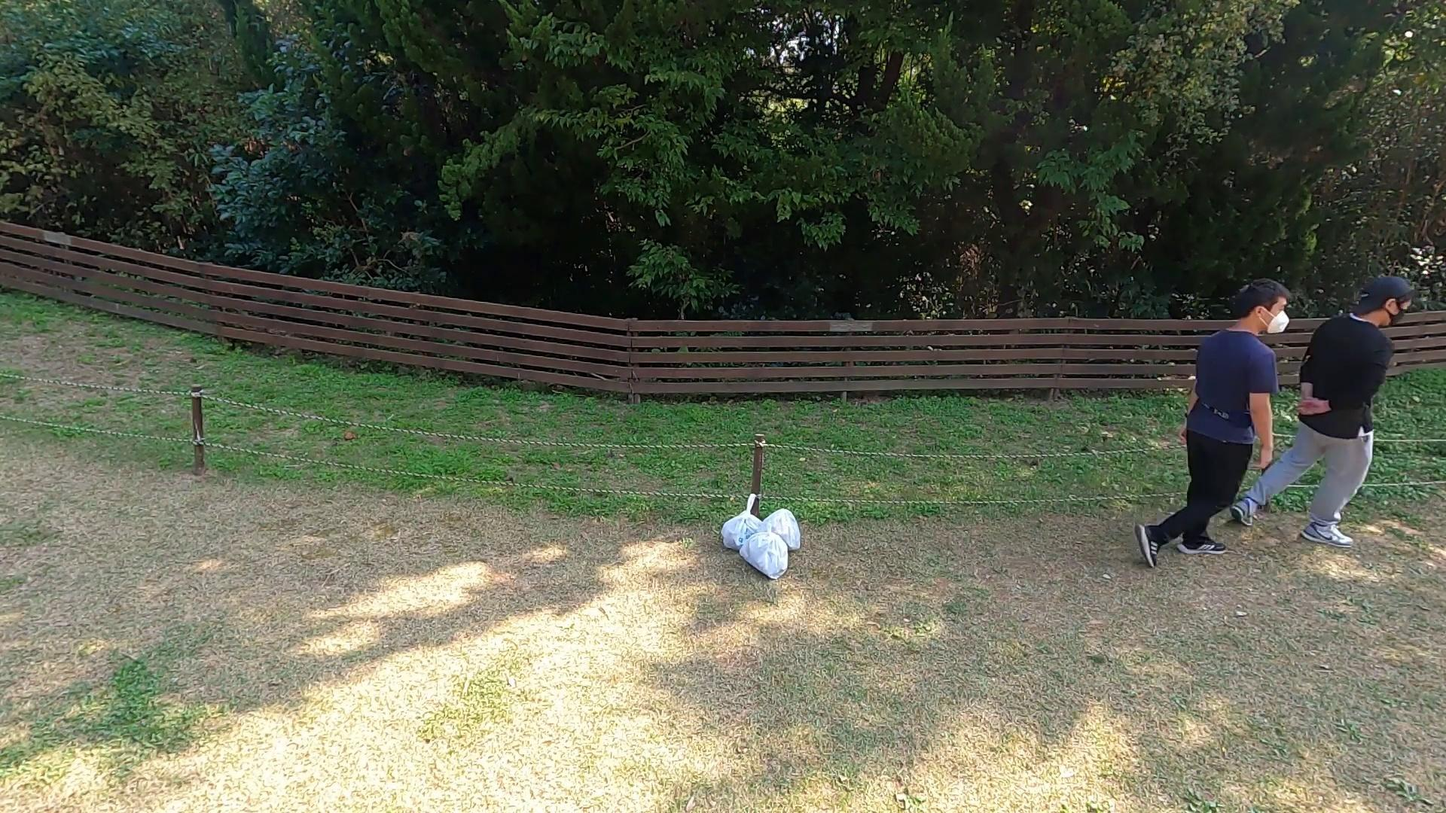person: (1232, 270, 1415, 550), (1130, 278, 1293, 569)
trash: (734, 525, 793, 581), (746, 505, 805, 556), (716, 491, 765, 549)
